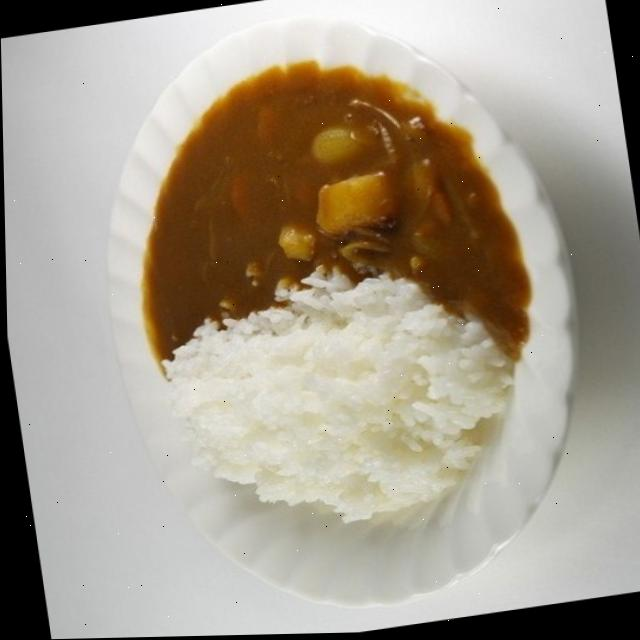Wet: (109, 29, 565, 559)
